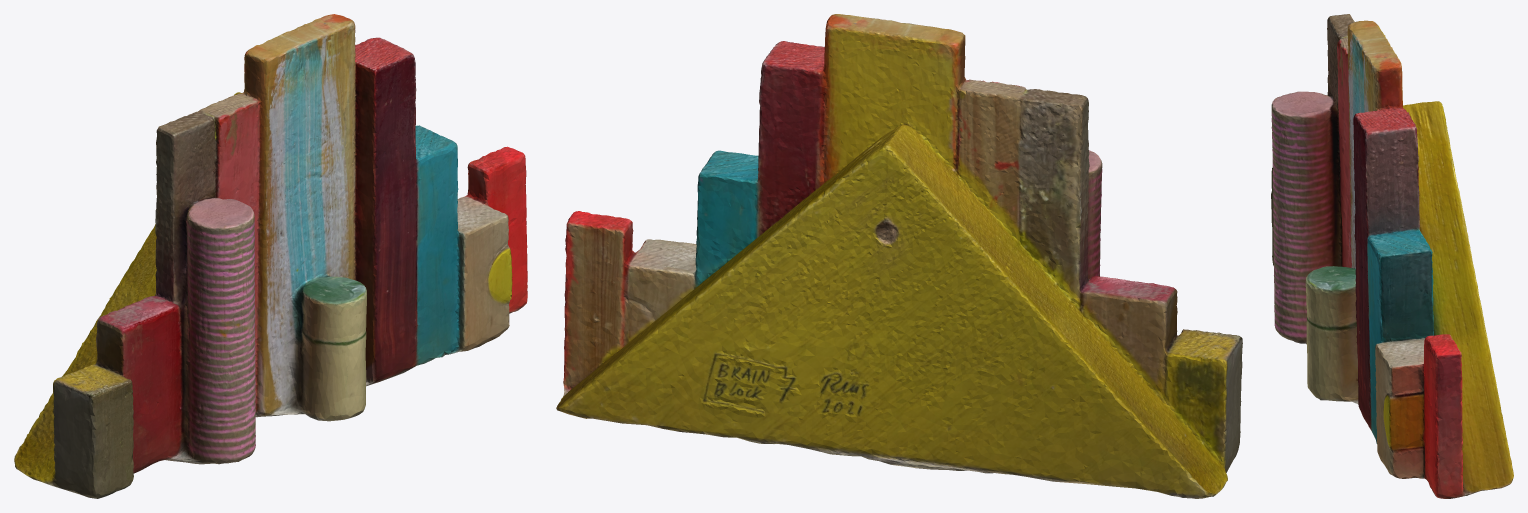
Rendered from Brainblock_7.fbx.
The picture shows the model from 3 angles, left to right: view 1: azimuth 30°, elevation 25°; view 2: azimuth 150°, elevation 25°; view 3: azimuth 270°, elevation 25°; orthographic projection. The views are drawn at different scales.
Parts seen in each view (by area): view 1: Object; view 2: Object; view 3: Object.
Boxes of the visible parts, x1=… form: Object: x1=14, y1=14, x2=527, y2=498; Object: x1=556, y1=14, x2=1242, y2=498; Object: x1=1271, y1=14, x2=1513, y2=498.
Bounding box in the file's own units: 19.46 × 12.59 × 7.94.
1 material, 1 textured.
